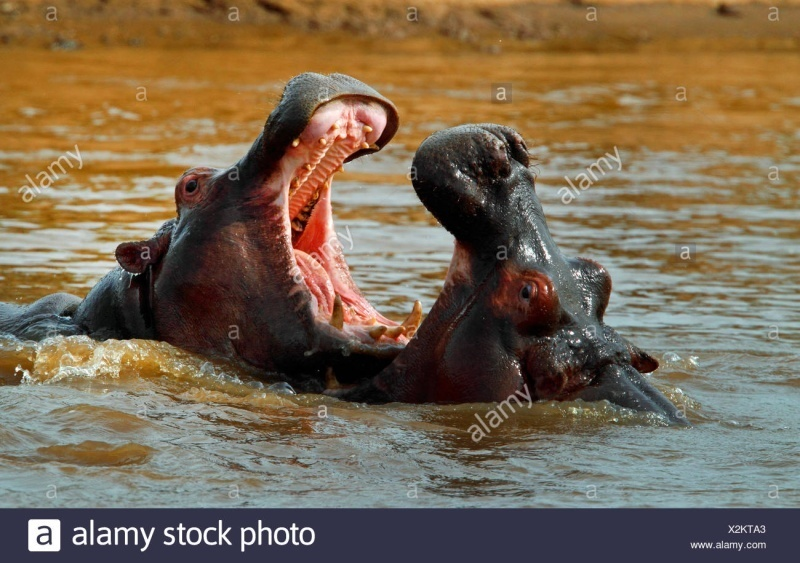hipopotamo: (47, 63, 411, 408), (335, 117, 693, 448)
